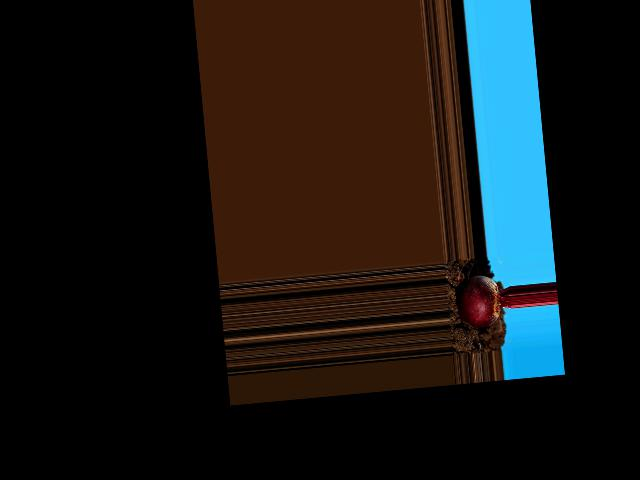beet: (454, 272, 513, 329)
